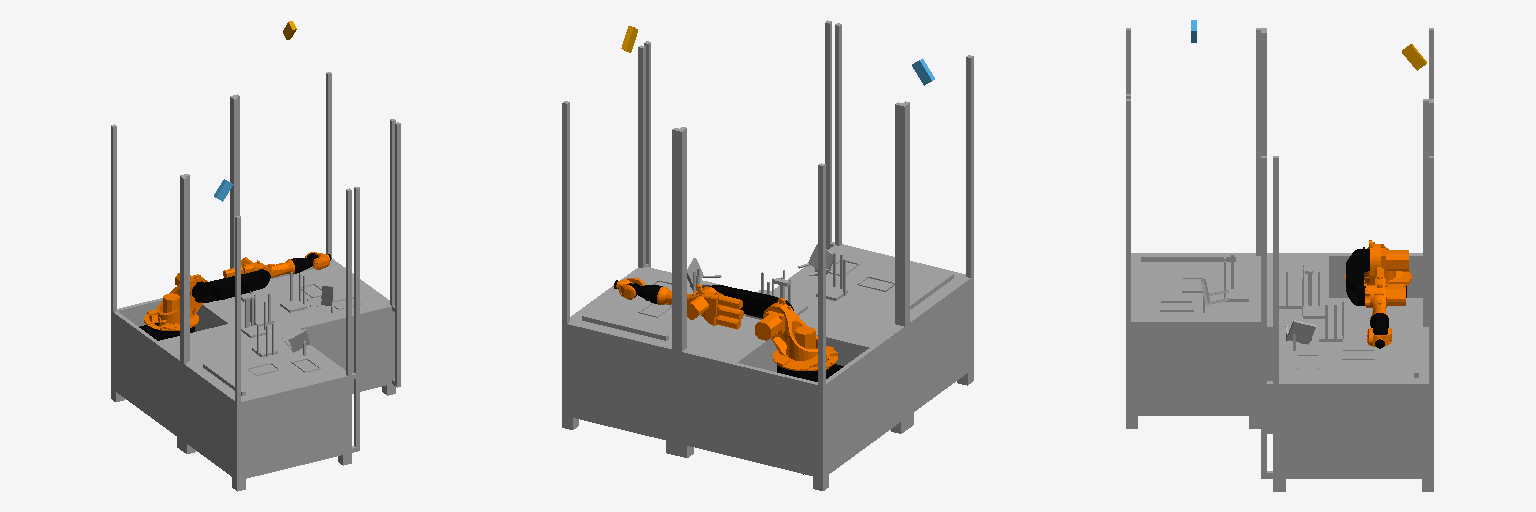
The robot description file, URDF, robot "silia":
<?xml version="1.0" ?>
<!-- =================================================================================== -->
<!-- |    This document was autogenerated by xacro from silia.urdf.xacro               | -->
<!-- |    EDITING THIS FILE BY HAND IS NOT RECOMMENDED                                 | -->
<!-- =================================================================================== -->
<robot name="silia" xmlns:controller="http://playerstage.sourceforge.net/gazebo/xmlschema/#controller" xmlns:interface="http://playerstage.sourceforge.net/gazebo/xmlschema/#interface" xmlns:sensor="http://playerstage.sourceforge.net/gazebo/xmlschema/#sensor" xmlns:xacro="http://ros.org/wiki/xacro">
  <!-- common stuff -->
  <material name="Blue">
    <color rgba="0.0 0.0 0.8 1.0"/>
  </material>
  <material name="Green">
    <color rgba="0.0 0.8 0.0 1.0"/>
  </material>
  <material name="Grey">
    <color rgba="0.7 0.7 0.7 1.0"/>
  </material>
  <material name="Grey2">
    <color rgba="0.9 0.9 0.9 1.0"/>
  </material>
  <material name="Red">
    <color rgba="0.8 0.0 0.0 1.0"/>
  </material>
  <material name="Orange">
    <color rgba="1.0 0.5 0.0 1.0"/>
  </material>
  <material name="White">
    <color rgba="1.0 1.0 1.0 1.0"/>
  </material>
  <material name="Black">
    <color rgba="0.05 0.05 0.05 1.0"/>
  </material>
  <material name="Caster">
    <texture filename="package://pr2_ogre/Media/materials/textures/pr2_caster_texture.png"/>
  </material>
  <material name="Wheel_l">
    <texture filename="package://pr2_ogre/Media/materials/textures/pr2_wheel_left.png"/>
  </material>
  <material name="Wheel_r">
    <texture filename="package://pr2_ogre/Media/materials/textures/pr2_wheel_right.png"/>
  </material>
  <material name="RollLinks">
    <texture filename="package://pr2_ogre/Media/materials/textures/pr2_wheel_left.png"/>
  </material>
  <gazebo>
    <controller:gazebo_ros_controller_manager name="gazebo_ros_controller_manager" plugin="libgazebo_ros_controller_manager.so">
      <alwaysOn>true</alwaysOn>
      <updateRate>1000.0</updateRate>
      <interface:audio name="gazebo_ros_controller_manager_dummy_iface"/>
    </controller:gazebo_ros_controller_manager>
    <controller:gazebo_ros_power_monitor name="gazebo_ros_power_monitor_controller" plugin="libgazebo_ros_power_monitor.so">
      <alwaysOn>true</alwaysOn>
      <updateRate>1.0</updateRate>
      <timeout>5</timeout>
      <interface:audio name="power_monitor_dummy_interface"/>
      <powerStateTopic>power_state</powerStateTopic>
      <powerStateRate>10.0</powerStateRate>
      <fullChargeCapacity>87.78</fullChargeCapacity>
      <dischargeRate>-474</dischargeRate>
      <chargeRate>525</chargeRate>
      <dischargeVoltage>15.52</dischargeVoltage>
      <chargeVoltage>16.41</chargeVoltage>
    </controller:gazebo_ros_power_monitor>
  </gazebo>
  <!-- arm mount positions | relative to base_link -->
  <!-- arm reference positions | used as calibration_rising for arm chain-->
  <!-- Cameras -->
  <link name="head_cam3d_link">
    <visual>
      <geometry>
        <box size="0.1 0.2 0.05"/>
      </geometry>
      <origin rpy="1.57 -0.64577 1.57" xyz="1.485 0.285 3.05"/>
    </visual>
  </link>
  <joint name="kinect_1_joint" type="fixed">
    <origin rpy="0 0 0" xyz="0 0 0.6"/>
    <parent link="base_link"/>
    <child link="head_cam3d_link"/>
  </joint>
  <link name="kinect_2_link">
    <visual>
      <geometry>
        <box size="0.1 0.2 0.05"/>
      </geometry>
      <origin rpy="1.57 0.64577 0" xyz="-0.285 -1.485 3.05"/>
    </visual>
  </link>
  <joint name="kinect_2_joint" type="fixed">
    <parent link="base_link"/>
    <child link="kinect_2_link"/>
  </joint>
  <!-- arm -->
  <link name="base_link">
    <inertial>
      <origin rpy="0 0 0" xyz="0 0 0"/>
      <mass value="100.0"/>
      <inertia ixx="0.01" ixy="0" ixz="0" iyy="0.01" iyz="0" izz="0.01"/>
    </inertial>
    <visual>
      <origin rpy="0 0 0" xyz="0 0 -0.07"/>
      <geometry>
        <box size="0.01 0.01 0.01"/>
      </geometry>
    </visual>
    <collision>
      <origin rpy="0 0 0" xyz="0 0 0"/>
      <geometry>
        <box size="0.01 0.01 0.01"/>
      </geometry>
    </collision>
  </link>
  <!-- workcell -->
  <joint name="stack_joint" type="fixed">
    <origin rpy="0 0 -3.14159265359" xyz="0 0 0.6"/>
    <parent link="base_link"/>
    <child link="stack_link"/>
  </joint>
  <link name="stack_link">
    <inertial>
      <origin rpy="0 0 0" xyz="0 0 0"/>
      <mass value="100"/>
      <inertia ixx="0.01" ixy="0" ixz="0" iyy="0.01" iyz="0" izz="0.01"/>
    </inertial>
    <visual>
      <origin rpy="0 0 0" xyz="0 0 0"/>
      <geometry>
        <!--cylinder radius="0.060" length="0.30"/-->
        <mesh filename="package://cob_kuka_description/meshes/kr16/stack.stl"/>
      </geometry>
      <material name="Grey"/>
    </visual>
    <collision>
      <origin rpy="0 0 0" xyz="0 0 0"/>
      <geometry>
        <mesh filename="package://cob_kuka_description/meshes/kr16/stack.stl"/>
      </geometry>
    </collision>
  </link>
  <gazebo reference="stack_link">
    <material>Gazebo/Grey</material>
    <turnGravityOff>false</turnGravityOff>
  </gazebo>
  <!-- composition of the robot -->
  <joint name="arm_0_joint" type="fixed">
    <origin rpy="0 0 0" xyz="0 0 0.6"/>
    <parent link="base_link"/>
    <child link="arm_0_link"/>
  </joint>
  <link name="arm_0_link">
    <inertial>
      <origin rpy="0 0 0" xyz="0 0 0"/>
      <mass value="2"/>
      <inertia ixx="0.01" ixy="0" ixz="0" iyy="0.01" iyz="0" izz="0.01"/>
    </inertial>
    <visual>
      <origin rpy="0 0 0" xyz="0 0 0"/>
      <geometry>
        <!--cylinder radius="0.060" length="0.30"/-->
        <mesh filename="package://cob_kuka_description/meshes/kr16/joint_0.stl"/>
      </geometry>
      <material name="Black"/>
    </visual>
    <collision>
      <origin rpy="0 0 0" xyz="0 0 0"/>
      <geometry>
        <mesh filename="package://cob_kuka_description/meshes/kr16/joint_0.stl"/>
      </geometry>
    </collision>
  </link>
  <joint name="arm_1_joint" type="revolute">
    <origin rpy="3.14159265359 0 0" xyz="0 0 0.390"/>
    <parent link="arm_0_link"/>
    <child link="arm_1_link"/>
    <axis xyz="0 0 1"/>
    <calibration rising="0.0"/>
    <dynamics damping="10"/>
    <limit effort="200" lower="-2.9670" upper="2.9670" velocity="1.9634"/>
    <safety_controller k_position="20" k_velocity="50" soft_lower_limit="-2.957" soft_upper_limit="2.957"/>
  </joint>
  <link name="arm_1_link">
    <inertial>
      <origin rpy="0 0 0" xyz="0 0 0"/>
      <!--mass value="5.9907"/-->
      <mass value="2"/>
      <inertia ixx="0.01" ixy="0" ixz="0" iyy="0.01" iyz="0" izz="0.01"/>
    </inertial>
    <visual>
      <origin rpy="0 0 0" xyz="0 0 0"/>
      <geometry>
        <mesh filename="package://cob_kuka_description/meshes/kr16/joint_1.stl"/>
      </geometry>
      <material name="Orange"/>
    </visual>
    <collision>
      <origin rpy="0 0 0" xyz="0 0 0"/>
      <geometry>
        <mesh filename="package://cob_kuka_description/meshes/kr16/joint_1.stl"/>
      </geometry>
    </collision>
  </link>
  <joint name="arm_2_joint" type="revolute">
    <origin rpy="1.57079632679 0 0" xyz="0.260 0.07 -0.285"/>
    <parent link="arm_1_link"/>
    <child link="arm_2_link"/>
    <axis xyz="0 0 1"/>
    <calibration rising="0.0"/>
    <dynamics damping="10"/>
    <limit effort="200" lower="-2.0943" upper="2.0943" velocity="1.9634"/>
    <safety_controller k_position="20" k_velocity="50" soft_lower_limit="-2.0843" soft_upper_limit="2.0843"/>
  </joint>
  <link name="arm_2_link">
    <inertial>
      <origin rpy="0 0 0" xyz="0 0 0"/>
      <mass value="2"/>
      <inertia ixx="0.03" ixy="0" ixz="0" iyy="0.03" iyz="0" izz="0.03"/>
    </inertial>
    <visual>
      <origin rpy="0 0 0" xyz="0 0 0"/>
      <geometry>
        <mesh filename="package://cob_kuka_description/meshes/kr16/joint_2.stl"/>
      </geometry>
      <material name="Black"/>
    </visual>
    <collision>
      <origin rpy="0 0 0" xyz="0 0 0"/>
      <geometry>
        <mesh filename="package://cob_kuka_description/meshes/kr16/joint_2.stl"/>
      </geometry>
    </collision>
  </link>
  <joint name="arm_3_joint" type="revolute">
    <origin rpy="0 0 0" xyz="0.680 0 -0.04"/>
    <parent link="arm_2_link"/>
    <child link="arm_3_link"/>
    <axis xyz="0 0 1"/>
    <calibration rising="0.0"/>
    <dynamics damping="5"/>
    <limit effort="100" lower="-2.9670" upper="2.9670" velocity="1.9634"/>
    <safety_controller k_position="20" k_velocity="25" soft_lower_limit="-2.957" soft_upper_limit="2.957"/>
  </joint>
  <link name="arm_3_link">
    <inertial>
      <origin rpy="0 0 0" xyz="0 0 0"/>
      <mass value="2"/>
      <inertia ixx="0.03" ixy="0" ixz="0" iyy="0.03" iyz="0" izz="0.03"/>
    </inertial>
    <visual>
      <origin rpy="0 0 0" xyz="0 0 0"/>
      <geometry>
        <mesh filename="package://cob_kuka_description/meshes/kr16/joint_3.stl"/>
      </geometry>
      <material name="Orange"/>
    </visual>
    <collision>
      <origin rpy="0 0 0" xyz="0 0 0"/>
      <geometry>
        <mesh filename="package://cob_kuka_description/meshes/kr16/joint_3.stl"/>
      </geometry>
    </collision>
  </link>
  <joint name="arm_4_joint" type="revolute">
    <origin rpy="0 -1.57079632679 0" xyz="0.400 0.035 0.118"/>
    <parent link="arm_3_link"/>
    <child link="arm_4_link"/>
    <axis xyz="0 0 1"/>
    <calibration rising="0.0"/>
    <dynamics damping="5"/>
    <limit effort="100" lower="-2.0943" upper="2.0943" velocity="1.9634"/>
    <safety_controller k_position="20" k_velocity="25" soft_lower_limit="-2.0843" soft_upper_limit="2.0843"/>
  </joint>
  <link name="arm_4_link">
    <inertial>
      <origin rpy="0 0 0" xyz="0 0 0"/>
      <mass value="2"/>
      <inertia ixx="0.03" ixy="0" ixz="0" iyy="0.03" iyz="0" izz="0.03"/>
    </inertial>
    <visual>
      <origin rpy="0 0 0" xyz="0 0 0"/>
      <geometry>
        <mesh filename="package://cob_kuka_description/meshes/kr16/joint_4.stl"/>
      </geometry>
      <material name="Black"/>
    </visual>
    <collision>
      <origin rpy="0 0 0" xyz="0 0 0"/>
      <geometry>
        <mesh filename="package://cob_kuka_description/meshes/kr16/joint_4.stl"/>
      </geometry>
    </collision>
  </link>
  <joint name="arm_5_joint" type="revolute">
    <origin rpy="0 1.57079632679 0" xyz="0.1 0 -0.270"/>
    <parent link="arm_4_link"/>
    <child link="arm_5_link"/>
    <axis xyz="0 0 1"/>
    <calibration rising="0.0"/>
    <dynamics damping="5"/>
    <limit effort="100" lower="-2.9670" upper="2.9670" velocity="1.9634"/>
    <safety_controller k_position="20" k_velocity="25" soft_lower_limit="-2.957" soft_upper_limit="2.957"/>
  </joint>
  <link name="arm_5_link">
    <inertial>
      <origin rpy="0 0 0" xyz="0 0 0"/>
      <mass value="2"/>
      <inertia ixx="0.03" ixy="0" ixz="0" iyy="0.03" iyz="0" izz="0.03"/>
    </inertial>
    <visual>
      <origin rpy="0 0 0" xyz="0 0 0"/>
      <geometry>
        <mesh filename="package://cob_kuka_description/meshes/kr16/joint_5.stl"/>
      </geometry>
      <material name="Orange"/>
    </visual>
    <collision>
      <origin rpy="0 0 0" xyz="0 0 0"/>
      <geometry>
        <mesh filename="package://cob_kuka_description/meshes/kr16/joint_5.stl"/>
      </geometry>
    </collision>
  </link>
  <joint name="arm_6_joint" type="revolute">
    <origin rpy="0 -1.57079632679 0" xyz="0.158 0 -0.1"/>
    <parent link="arm_5_link"/>
    <child link="arm_6_link"/>
    <axis xyz="0 0 1"/>
    <calibration rising="0.0"/>
    <dynamics damping="5"/>
    <limit effort="30" lower="-2.0943951" upper="2.0943951" velocity="1.9634"/>
    <safety_controller k_position="20" k_velocity="25" soft_lower_limit="-2.0843951" soft_upper_limit="2.0843951"/>
  </joint>
  <link name="arm_6_link">
    <inertial>
      <origin rpy="0 0 0" xyz="0 0 0"/>
      <mass value="2"/>
      <inertia ixx="0.01" ixy="0" ixz="0" iyy="0.01" iyz="0" izz="0.01"/>
    </inertial>
    <visual>
      <origin rpy="0 0 0" xyz="0 0 0"/>
      <geometry>
        <mesh filename="package://cob_kuka_description/meshes/kr16/joint_6.stl"/>
      </geometry>
      <material name="Black"/>
    </visual>
    <collision>
      <origin rpy="0 0 0" xyz="0 0 0"/>
      <geometry>
        <mesh filename="package://cob_kuka_description/meshes/kr16/joint_6.stl"/>
      </geometry>
    </collision>
  </link>
  <gazebo reference="arm_0_link">
    <material value="IPA/Black"/>
    <turnGravityOff>false</turnGravityOff>
  </gazebo>
  <gazebo reference="arm_1_link">
    <material value="IPA/Orange"/>
    <turnGravityOff>false</turnGravityOff>
  </gazebo>
  <gazebo reference="arm_2_link">
    <material value="IPA/Black"/>
    <turnGravityOff>false</turnGravityOff>
  </gazebo>
  <gazebo reference="arm_3_link">
    <material value="IPA/Orange"/>
    <turnGravityOff>false</turnGravityOff>
  </gazebo>
  <gazebo reference="arm_4_link">
    <material value="IPA/Black"/>
    <turnGravityOff>false</turnGravityOff>
  </gazebo>
  <gazebo reference="arm_5_link">
    <material value="IPA/Orange"/>
    <turnGravityOff>false</turnGravityOff>
  </gazebo>
  <gazebo reference="arm_6_link">
    <material value="IPA/Black"/>
    <turnGravityOff>false</turnGravityOff>
  </gazebo>
  <transmission name="arm_1_trans" type="pr2_mechanism_model/SimpleTransmission">
    <actuator name="arm_1_motor"/>
    <joint name="arm_1_joint"/>
    <mechanicalReduction>1</mechanicalReduction>
  </transmission>
  <transmission name="arm_2_trans" type="pr2_mechanism_model/SimpleTransmission">
    <actuator name="arm_2_motor"/>
    <joint name="arm_2_joint"/>
    <mechanicalReduction>1</mechanicalReduction>
  </transmission>
  <transmission name="arm_3_trans" type="pr2_mechanism_model/SimpleTransmission">
    <actuator name="arm_3_motor"/>
    <joint name="arm_3_joint"/>
    <mechanicalReduction>1</mechanicalReduction>
  </transmission>
  <transmission name="arm_4_trans" type="pr2_mechanism_model/SimpleTransmission">
    <actuator name="arm_4_motor"/>
    <joint name="arm_4_joint"/>
    <mechanicalReduction>1</mechanicalReduction>
  </transmission>
  <transmission name="arm_5_trans" type="pr2_mechanism_model/SimpleTransmission">
    <actuator name="arm_5_motor"/>
    <joint name="arm_5_joint"/>
    <mechanicalReduction>1</mechanicalReduction>
  </transmission>
  <transmission name="arm_6_trans" type="pr2_mechanism_model/SimpleTransmission">
    <actuator name="arm_6_motor"/>
    <joint name="arm_6_joint"/>
    <mechanicalReduction>1</mechanicalReduction>
  </transmission>
</robot>

--- What the picture shows (computed from the rendered views, not written in the file) ---
3 views of the same robot in one strip: view 1: azimuth 30°, elevation 25°; view 2: azimuth 150°, elevation 25°; view 3: azimuth 270°, elevation 25° (orthographic).
Robot: silia — 11 links, 10 joints (6 revolute, 4 fixed); root link base_link; default pose: every joint at zero.
Links seen in each view (by area): view 1: stack_link, arm_1_link, arm_2_link, arm_3_link; view 2: stack_link, arm_1_link, arm_3_link, arm_2_link; view 3: stack_link, arm_1_link, arm_3_link, arm_2_link.
Boxes of the visible links, left/top/right/bottom form: stack_link: left=111, top=72, right=400, bottom=491; arm_1_link: left=144, top=273, right=207, bottom=330; arm_2_link: left=192, top=269, right=270, bottom=302; arm_3_link: left=223, top=257, right=294, bottom=277; stack_link: left=562, top=20, right=973, bottom=490; arm_1_link: left=755, top=298, right=837, bottom=370; arm_3_link: left=657, top=284, right=743, bottom=329; arm_2_link: left=710, top=285, right=793, bottom=318; stack_link: left=1126, top=28, right=1433, bottom=491; arm_1_link: left=1345, top=240, right=1411, bottom=286; arm_3_link: left=1365, top=267, right=1405, bottom=319; arm_2_link: left=1346, top=247, right=1369, bottom=305.
Size in the robot's own frame: 2.48 by 2.48 by 3.83 metres.
8 mesh visuals loaded from 8 distinct referenced files (8 binary STL).
